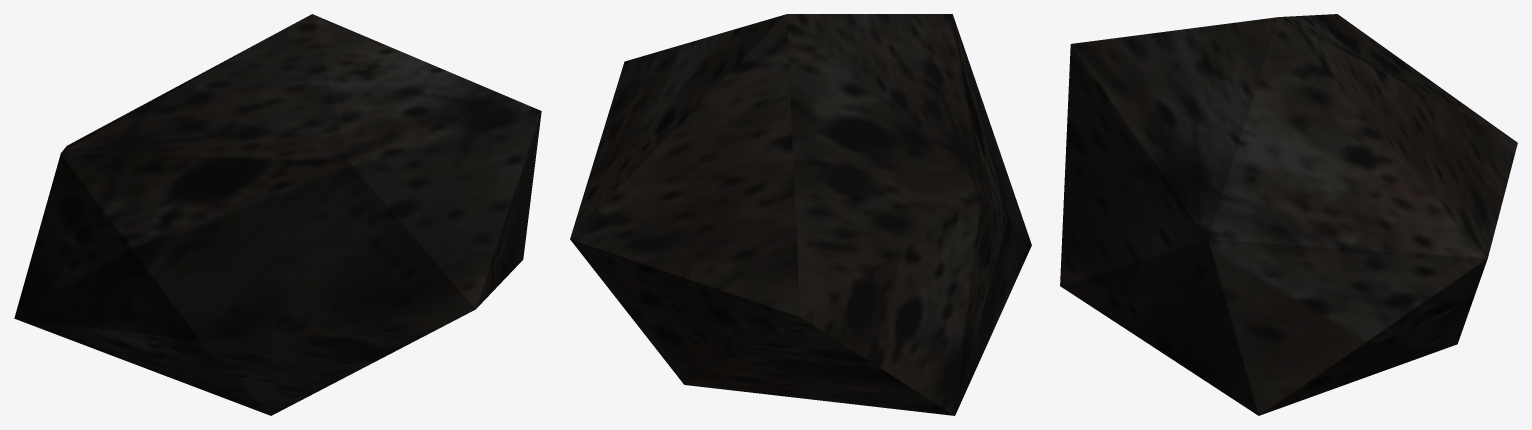
File: CoalPiece2.fbx
3 renders of one model, left to right at view 1: azimuth 30°, elevation 25°; view 2: azimuth 150°, elevation 25°; view 3: azimuth 270°, elevation 25°, orthographic. The views are drawn at different scales.
Visible parts, largest first — view 1: pPlatonic1; view 2: pPlatonic1; view 3: pPlatonic1.
Boxes of the visible parts, bbox=[...] form: pPlatonic1: bbox=[14, 14, 541, 415]; pPlatonic1: bbox=[570, 14, 1031, 415]; pPlatonic1: bbox=[1060, 14, 1517, 415].
Size of the model in its own units: 0.9434 by 0.662 by 0.8338.
